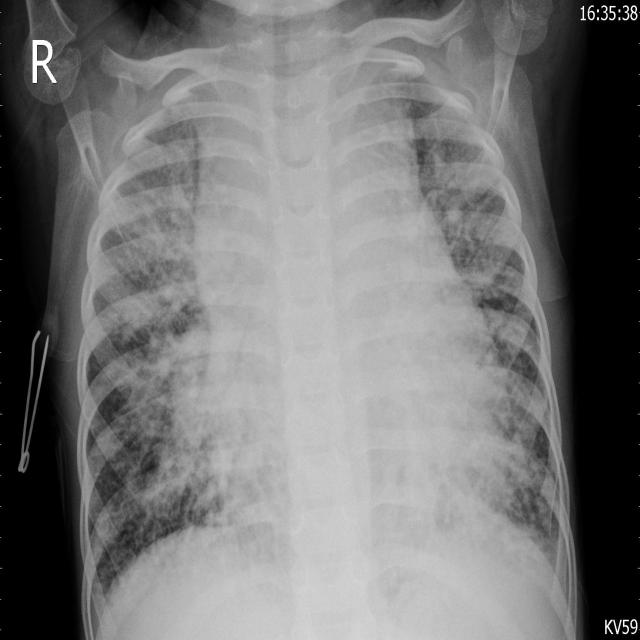viral_pneumonia: (1, 1, 640, 640)
